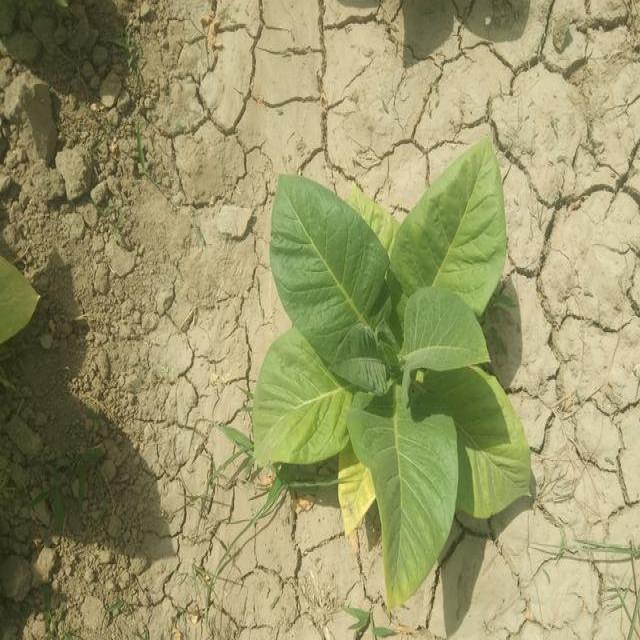crop: (252, 163, 539, 602), (0, 262, 45, 346)
